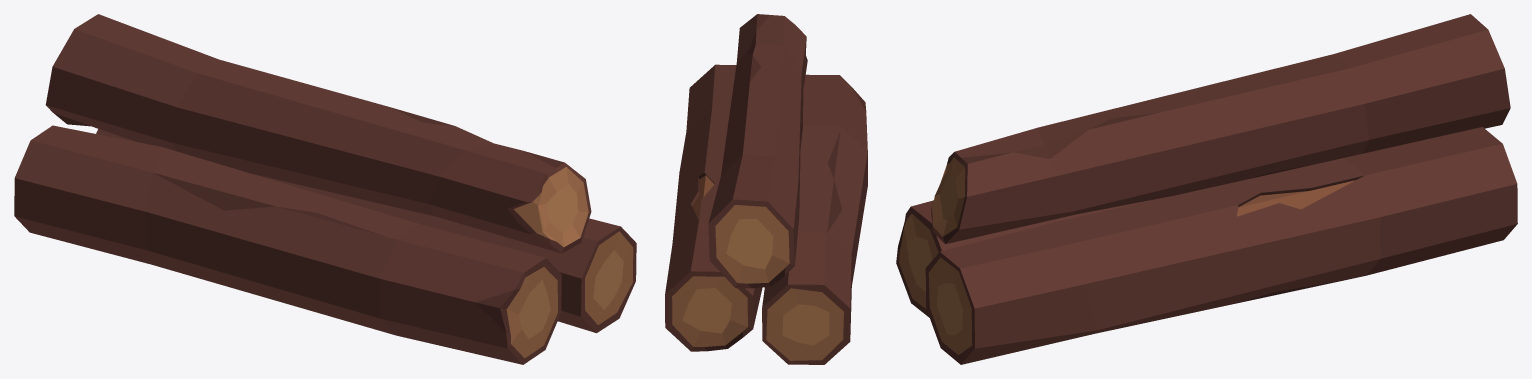
Rendered from deck_(3_pack).fbx.
3 views of the same model, side by side, from view 1: azimuth 30°, elevation 25°; view 2: azimuth 150°, elevation 25°; view 3: azimuth 270°, elevation 25° (orthographic). The views are drawn at different scales.
Parts seen in each view (by area): view 1: Deck.001; view 2: Deck.001; view 3: Deck.001.
Boxes of the visible parts, x1,y1,x2,y2 form: Deck.001: [14, 14, 636, 364]; Deck.001: [665, 14, 867, 364]; Deck.001: [896, 14, 1517, 364].
Size of the model in its own units: 137 by 60.83 by 173.
